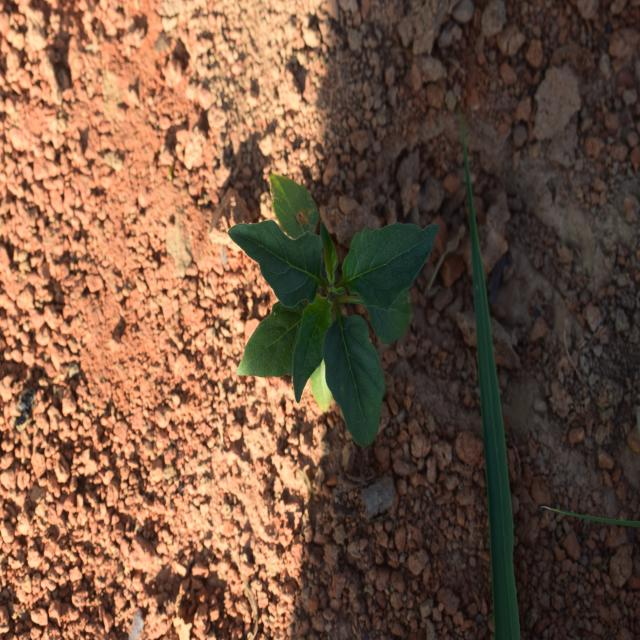Black_nightshade: (229, 173, 434, 441)
